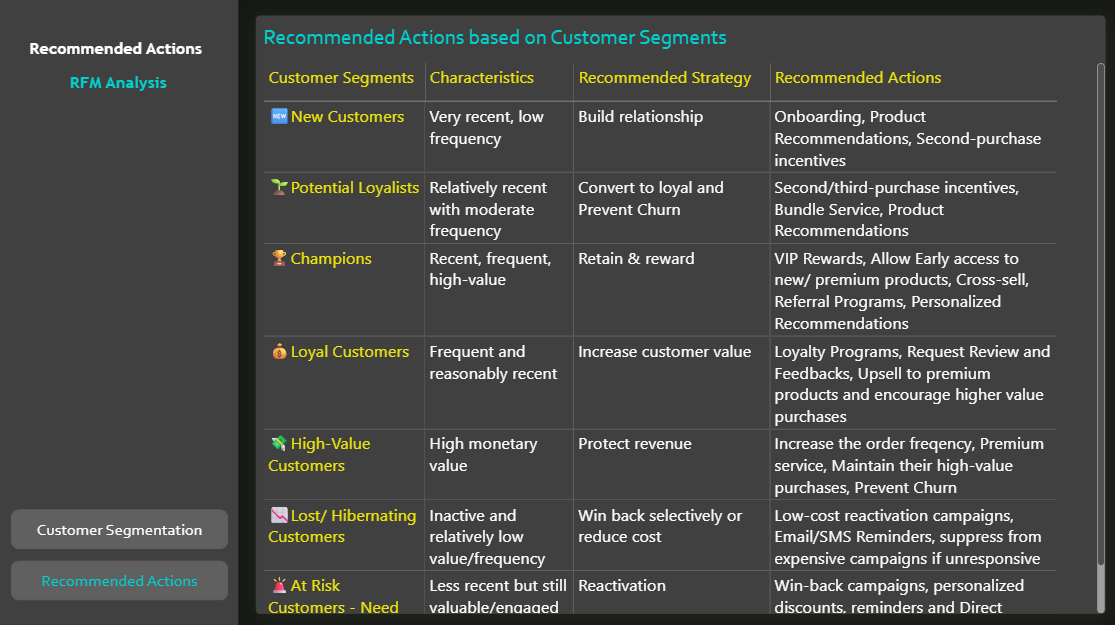

What the dashboard file says about the page in this screenshot:
{"tool":"powerbi","page":{"name":"Recommended Actions","canvas":[1280,720],"ordinal":2},"visuals":[{"type":"shape","box":[0,0,275.7,720],"z":2000},{"type":"textbox","box":[15.7,41.4,245.7,75.7],"z":3000},{"type":"actionButton","box":[15.7,584.3,248.6,45.7],"z":7000},{"type":"actionButton","box":[15.7,642.9,248.6,45.7],"z":8000},{"type":"tableEx","title":"Recommended Actions based on Customer Segments","fields":{"Values":["Customer RFM.Customer Segments","Customer RFM.Characteristics","Customer RFM.Strategy","Customer RFM.Recommended Actions"]},"box":[295.7,20,971.4,684.3],"z":12001}]}

Visuals, with their boxes on the page's 1280x720 design canvas (x1, y1, x2, y2). These are canvas units, not pixel positions in the 1115x625 screenshot, which may show the page scaled, cropped or inside an application window:
shape: x1=0, y1=0, x2=276, y2=720
textbox: x1=16, y1=41, x2=261, y2=117
actionButton: x1=16, y1=584, x2=264, y2=630
actionButton: x1=16, y1=643, x2=264, y2=689
"Recommended Actions based on Customer Segments" tableEx: x1=296, y1=20, x2=1267, y2=704
